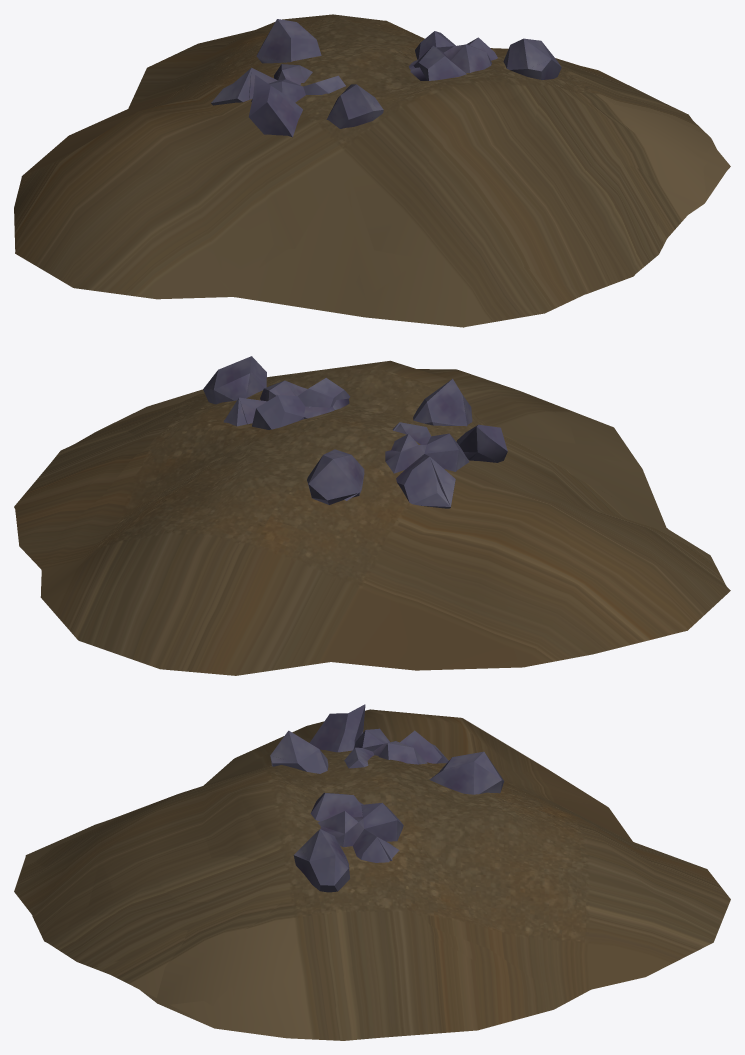
Rendered from ground_un_dlc2_obsidian01_03.gltf.
The picture shows the model from 3 angles, top to bottom: view 1: azimuth 30°, elevation 25°; view 2: azimuth 150°, elevation 25°; view 3: azimuth 270°, elevation 25°; orthographic projection. The views are drawn at different scales.
Parts seen in each view (by area): view 1: um_ground_un_dlc2_obsidian01_03_model_lod0Shape:ground_un_dl (×2), um_ground_un_dlc2_obsidian01_03_model_lod2Shape:ground_un_dl, um_ground_un_dlc2_obsidian01_03_model_lod1Shape:ground_un_dl (×2); view 2: um_ground_un_dlc2_obsidian01_03_model_lod0Shape:ground_un_dl (×2), um_ground_un_dlc2_obsidian01_03_model_lod1Shape:ground_un_dl (×2), um_ground_un_dlc2_obsidian01_03_model_lod2Shape:ground_un_dl; view 3: um_ground_un_dlc2_obsidian01_03_model_lod0Shape:ground_un_dl (×2), um_ground_un_dlc2_obsidian01_03_model_lod1Shape:ground_un_dl (×2), um_ground_un_dlc2_obsidian01_03_model_lod2Shape:ground_un_dl.
Boxes of the visible parts, x1,y1,x2,y2 form: um_ground_un_dlc2_obsidian01_03_model_lod0Shape:ground_un_dl (×2): (14,14,716,326); um_ground_un_dlc2_obsidian01_03_model_lod2Shape:ground_un_dl: (15,20,730,327); um_ground_un_dlc2_obsidian01_03_model_lod1Shape:ground_un_dl (×2): (69,19,725,318); um_ground_un_dlc2_obsidian01_03_model_lod0Shape:ground_un_dl (×2): (15,356,726,675); um_ground_un_dlc2_obsidian01_03_model_lod1Shape:ground_un_dl (×2): (16,362,658,675); um_ground_un_dlc2_obsidian01_03_model_lod2Shape:ground_un_dl: (14,360,730,670); um_ground_un_dlc2_obsidian01_03_model_lod0Shape:ground_un_dl (×2): (14,704,730,1040); um_ground_un_dlc2_obsidian01_03_model_lod1Shape:ground_un_dl (×2): (15,713,730,1040); um_ground_un_dlc2_obsidian01_03_model_lod2Shape:ground_un_dl: (25,709,645,1040).
Bounding box in the file's own units: 4.04 × 0.834 × 3.93.
3 materials, 2 textured.
